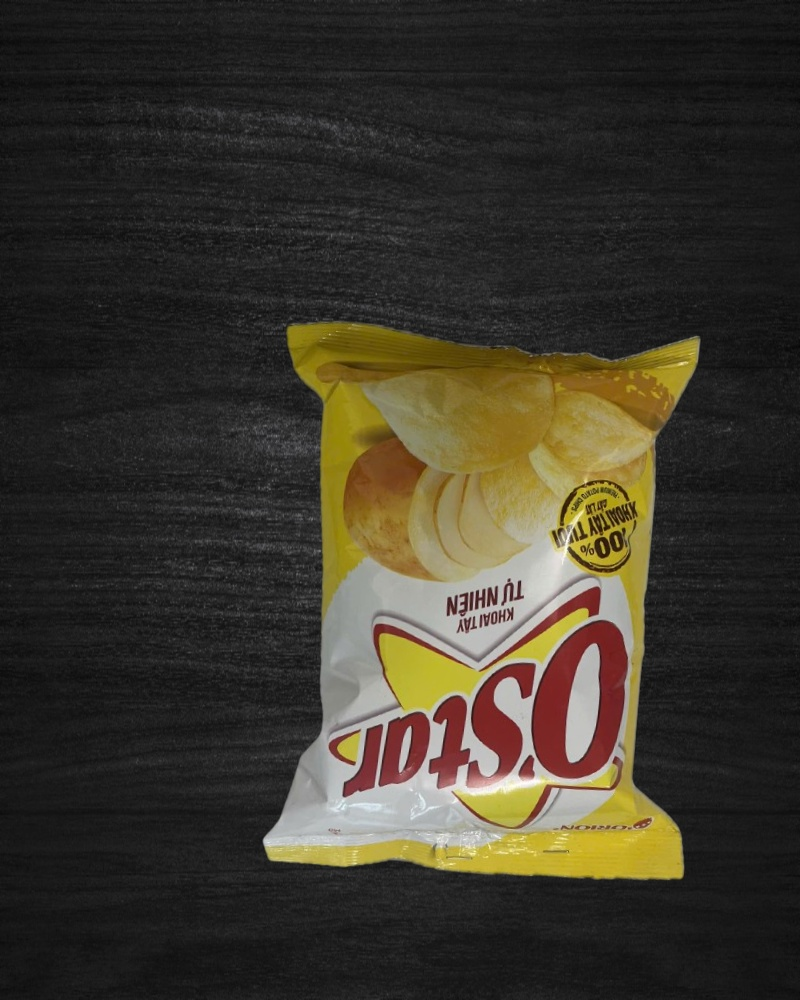Snack cua: (246, 307, 729, 891)
